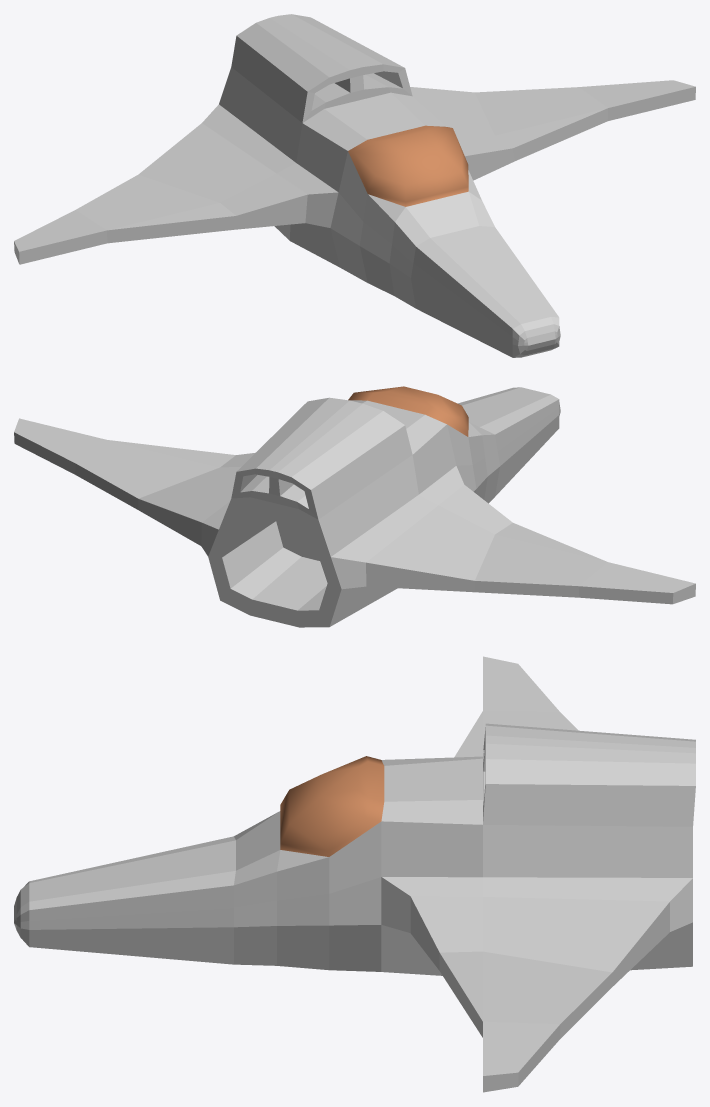
File: scene_mgr6oQc1pv.glb
3 views of the same model, one above another, from view 1: azimuth 30°, elevation 25°; view 2: azimuth 150°, elevation 25°; view 3: azimuth 270°, elevation 25° (orthographic). The views are drawn at different scales.
Visible parts, largest first — view 1: Spaceship4; view 2: Spaceship4; view 3: Spaceship4.
Boxes of the visible parts, x1,y1,x2,y2 form: Spaceship4: [14, 14, 695, 357]; Spaceship4: [14, 386, 695, 627]; Spaceship4: [14, 656, 695, 1092].
Size of the model in its own units: 5.44 by 1.26 by 3.74.
